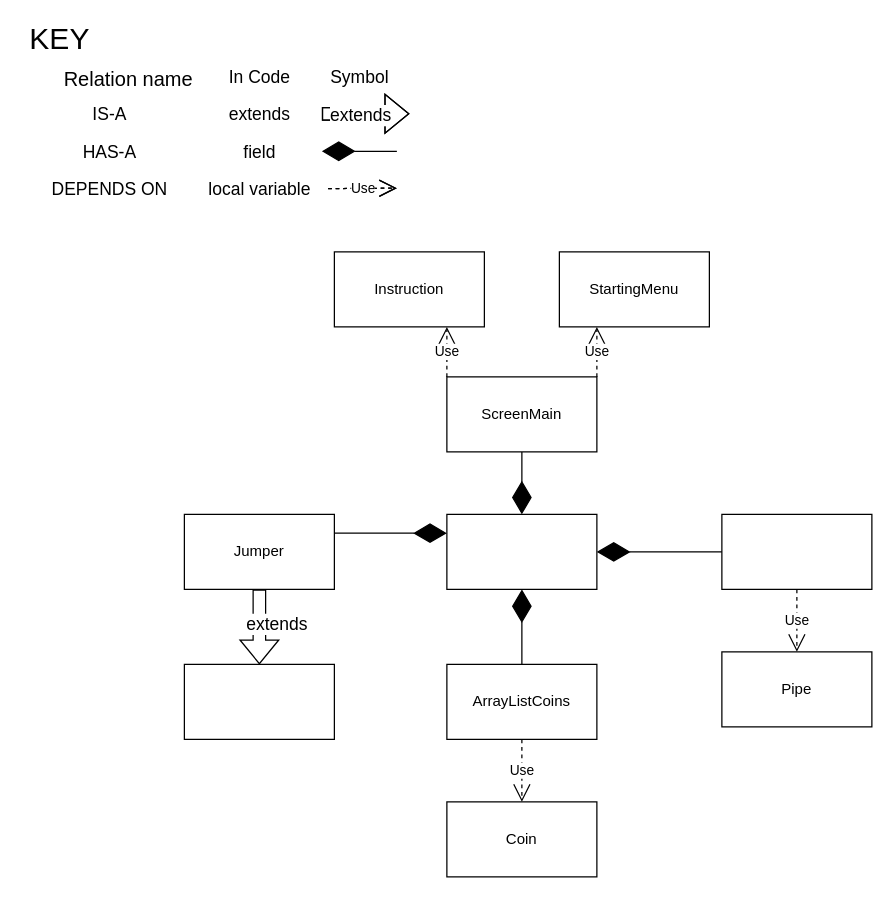
The diagram is 894 pixels wide and 899 high, and some of its shapes have lost their labels. Each missing label, with the centre of its shape:
"ArrayListPipes" goes at (796,551).
"SimpleWinDow" goes at (521,551).
"Sprite" goes at (258,701).
